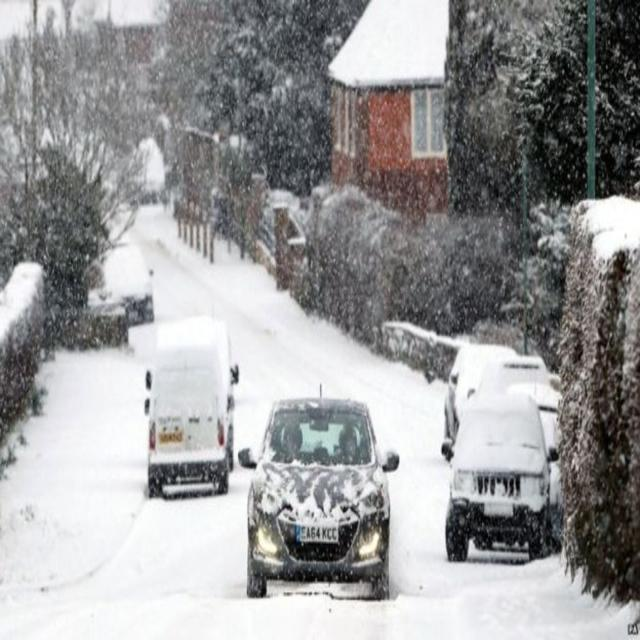car: (242, 387, 396, 601), (444, 366, 562, 564), (142, 314, 234, 503), (440, 340, 512, 430), (102, 240, 158, 326)
